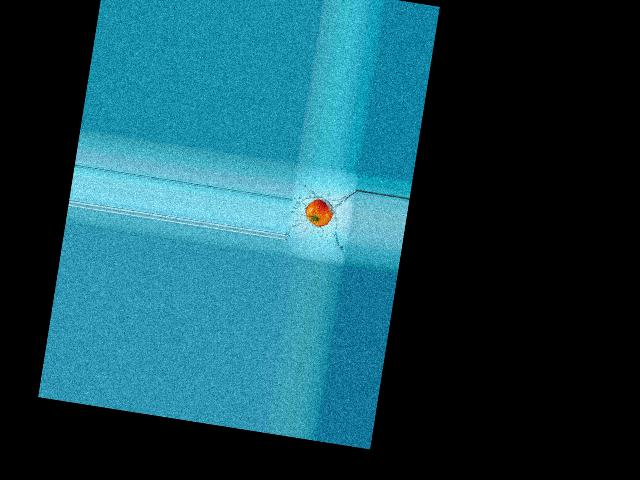tomato: (303, 197, 334, 228)
